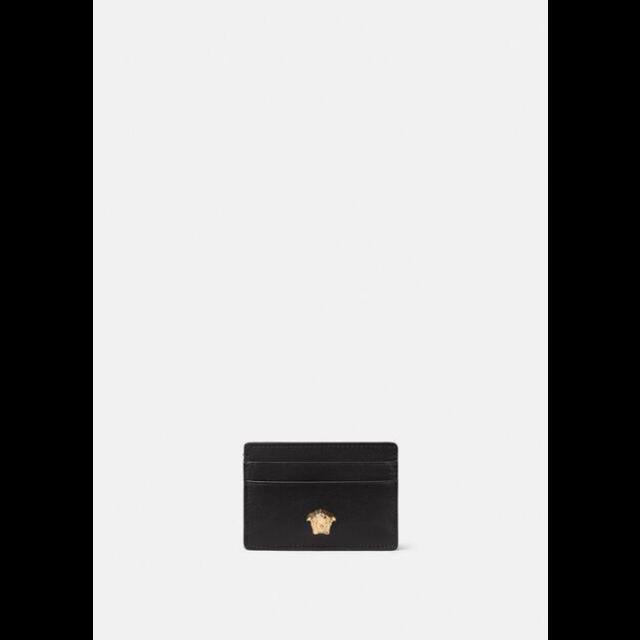wallet: (238, 439, 400, 555)
